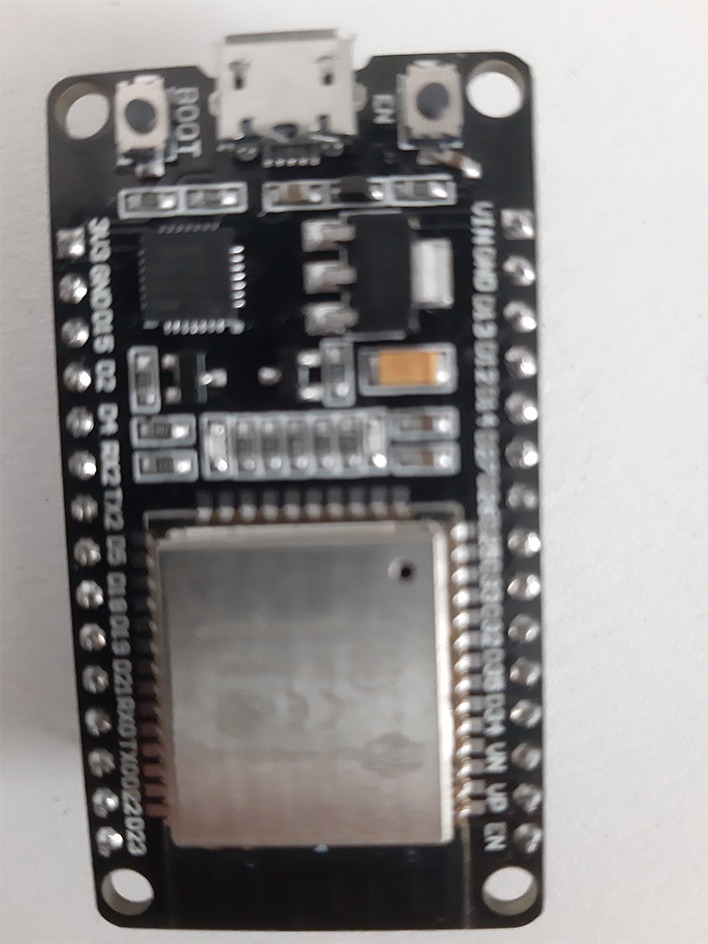ESP32-WROOM: (36, 18, 580, 944)
